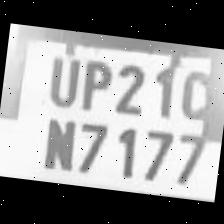0: (172, 57, 218, 120)
1: (144, 53, 181, 119), (105, 118, 142, 180)
2: (108, 54, 150, 120)
7: (166, 121, 208, 186), (134, 119, 175, 184), (70, 113, 110, 176)
N: (36, 110, 78, 173)
P: (74, 52, 115, 114)
U: (40, 47, 84, 110)
